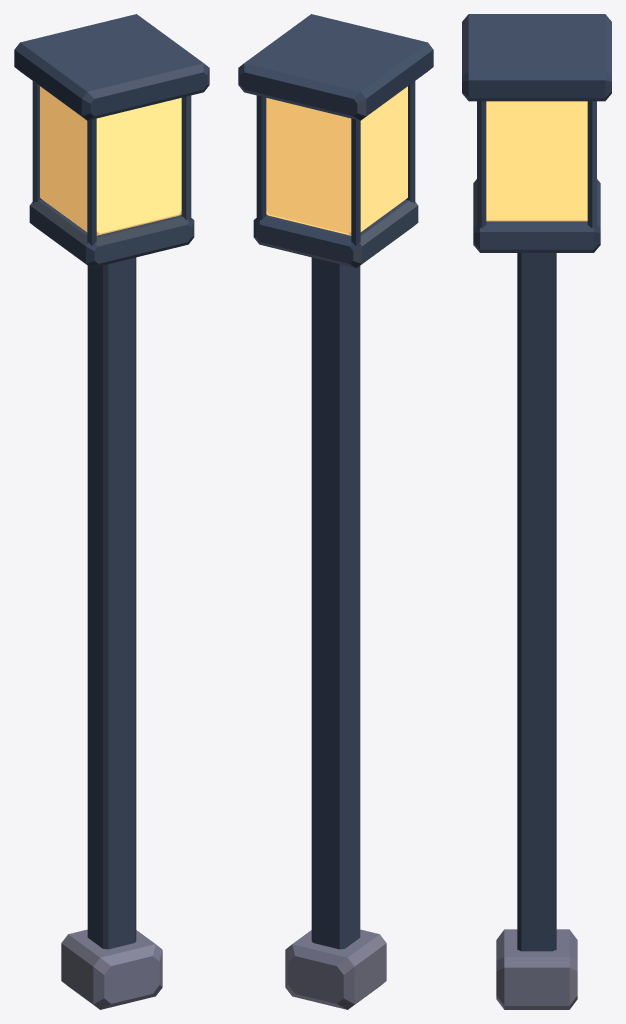
Rendered from ART_PathLamp.lod.glb.
3 views of the same model, side by side, from view 1: azimuth 30°, elevation 25°; view 2: azimuth 150°, elevation 25°; view 3: azimuth 270°, elevation 25° (orthographic).
Visible parts, largest first — view 1: ART_PathLamp; view 2: ART_PathLamp; view 3: ART_PathLamp.
Boxes of the visible parts, x1,y1,x2,y2 form: ART_PathLamp: (14,14,209,1009); ART_PathLamp: (238,14,433,1009); ART_PathLamp: (462,14,611,1009).
Size of the model in its own units: 0.46 by 3.23 by 0.46.
